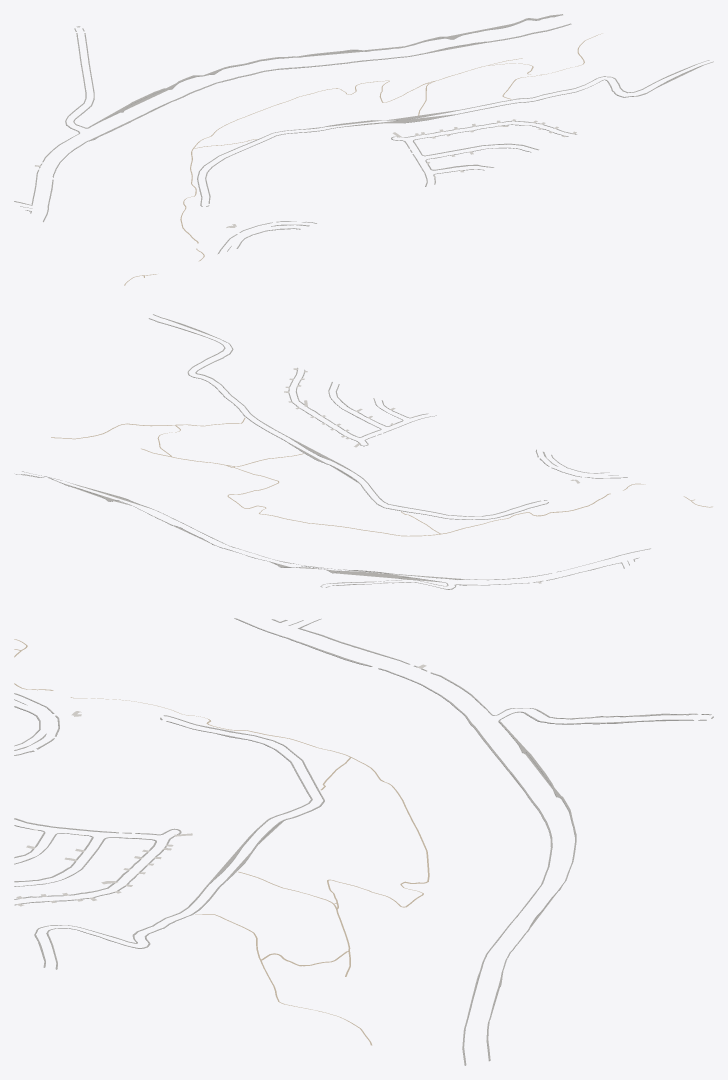
Rendered from ground_r0_c1.glb.
3 views of the same model, one above another, from view 1: azimuth 30°, elevation 25°; view 2: azimuth 150°, elevation 25°; view 3: azimuth 270°, elevation 25° (orthographic). The views are drawn at different scales.
Parts seen in each view (by area): view 1: sidewalks, paths; view 2: sidewalks, paths; view 3: sidewalks, paths.
Part boxes in pixels (left/top/right/bottom): sidewalks: left=14, top=14, right=713, bottom=253; paths: left=124, top=33, right=602, bottom=285; sidewalks: left=16, top=314, right=650, bottom=589; paths: left=51, top=417, right=712, bottom=536; sidewalks: left=14, top=618, right=713, bottom=1065; paths: left=14, top=639, right=429, bottom=1045.
Bounding box in the file's own units: 1125 × 125 × 761.
